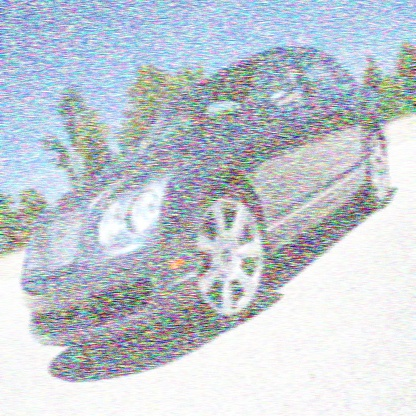Vehicle: (19, 41, 391, 354)
